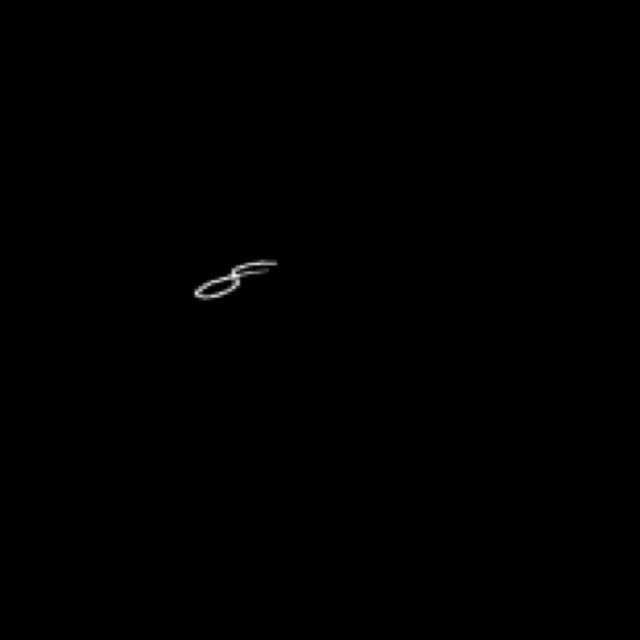eight -8-: (185, 250, 283, 310)
